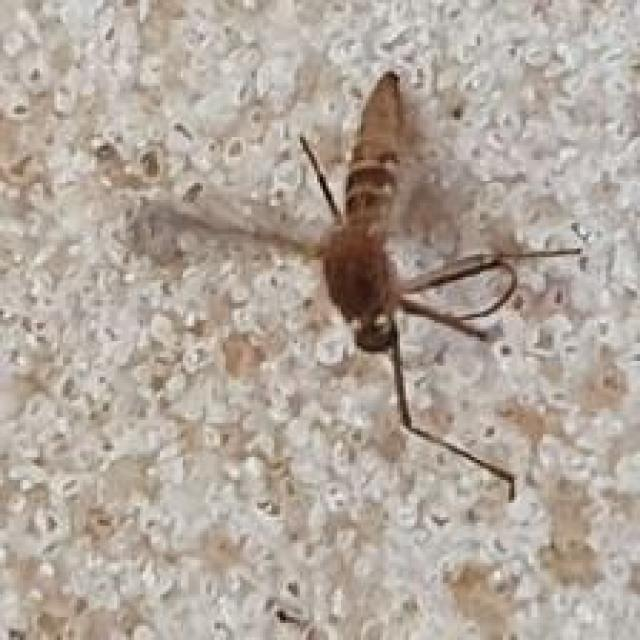Culex: (131, 67, 586, 504)
